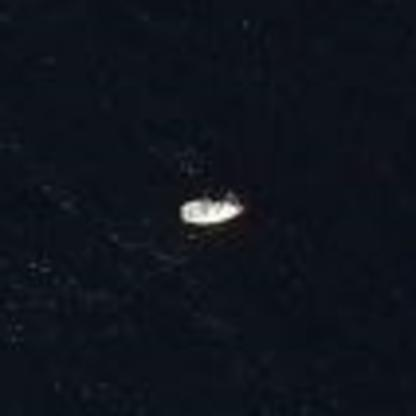ship: (175, 187, 250, 229)
